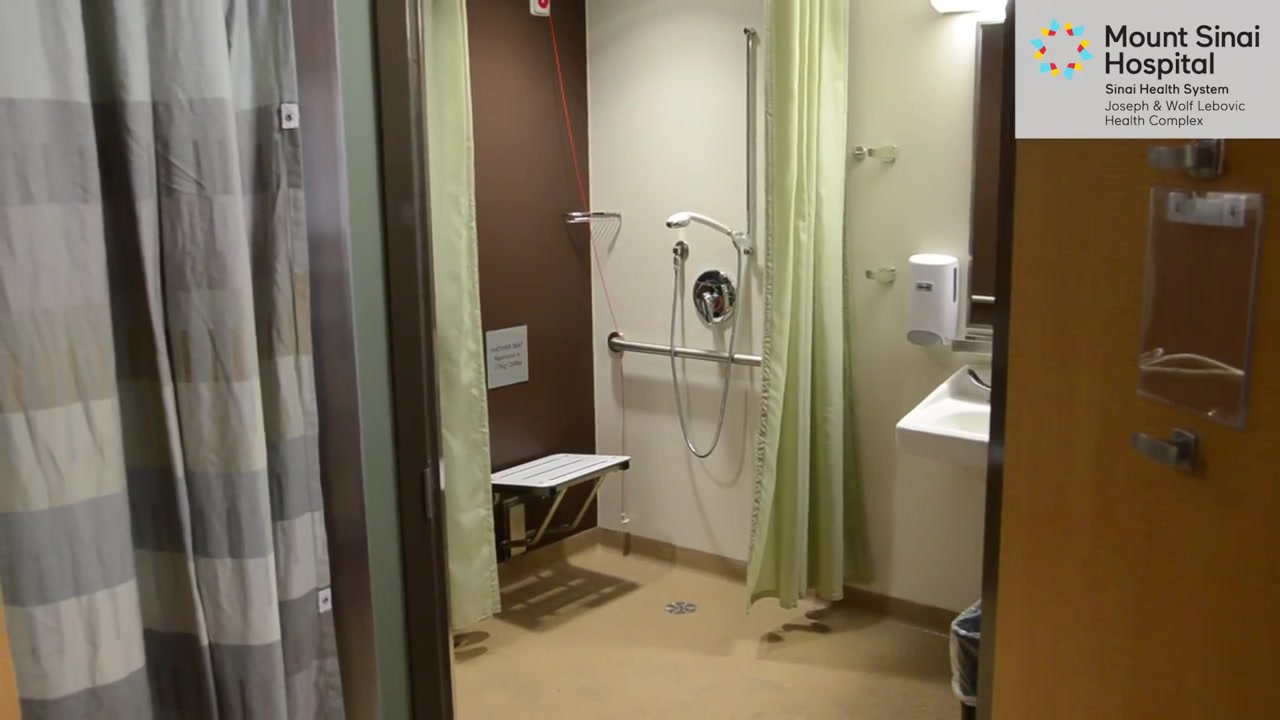curtain: (1, 1, 348, 720), (742, 1, 873, 608), (418, 1, 502, 630)
dispenser: (903, 252, 958, 349)
door_handle: (1125, 419, 1204, 488)
faucet: (696, 286, 720, 328)
handle: (1142, 135, 1227, 186)
restroom_assist_bar: (606, 330, 770, 371)
sink: (896, 362, 1002, 468)
waste_bin: (948, 596, 982, 720)
